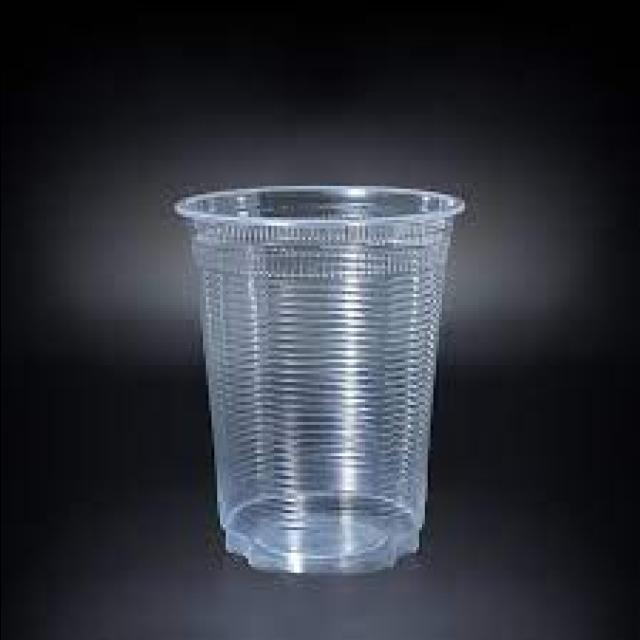plastic: (175, 185, 464, 572)
